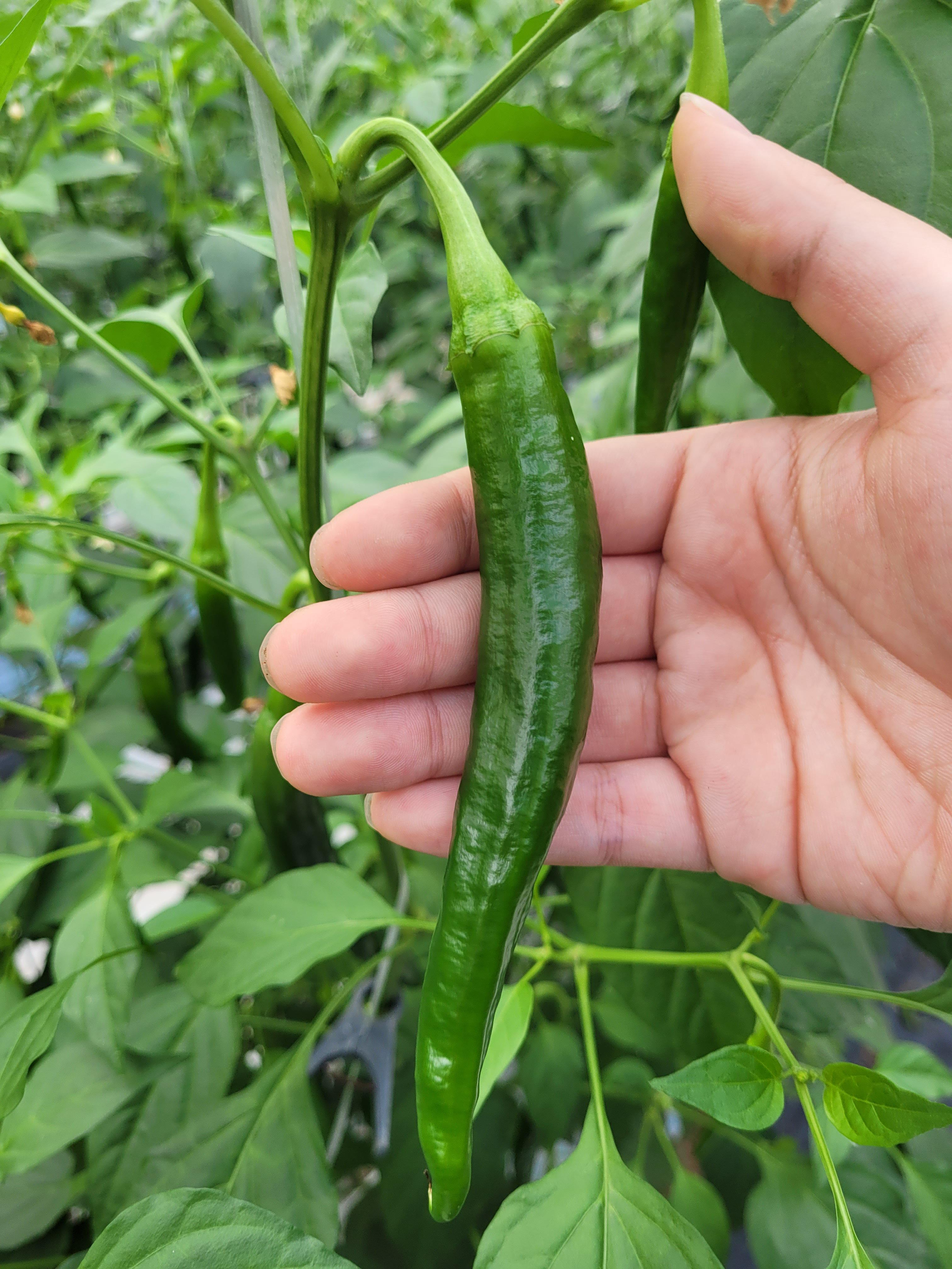Buah Cabai Sehat: (330, 252, 606, 1222)
